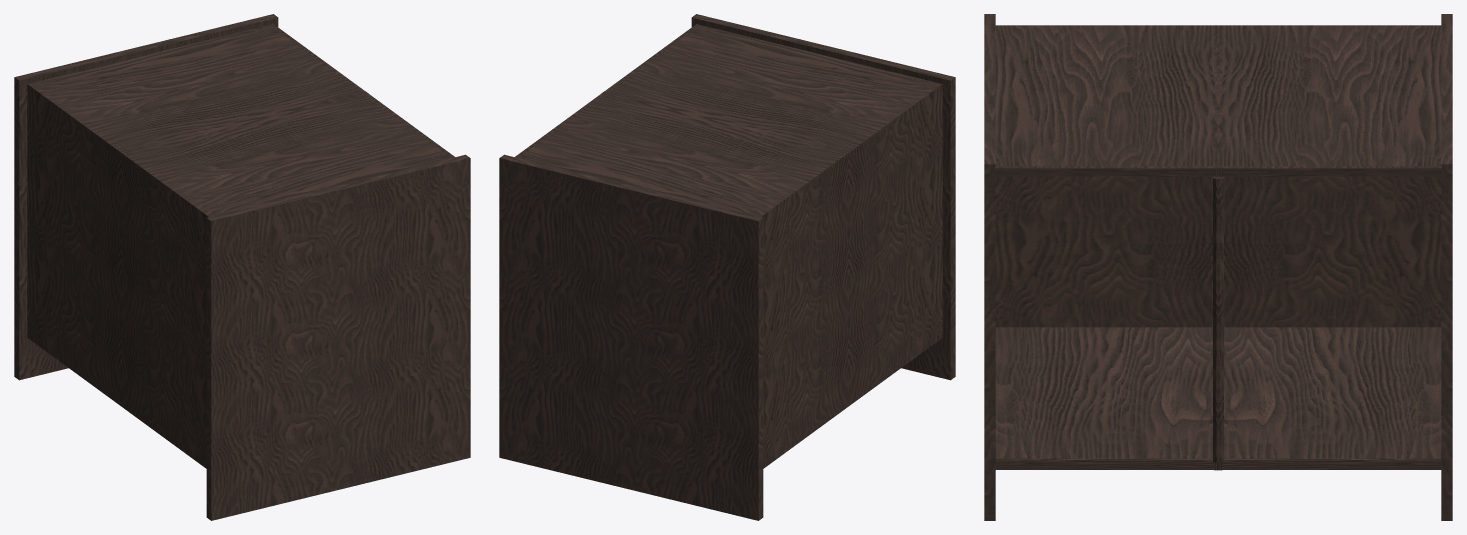
File: wood_cabinet_small.glb
3 views of the same model, side by side, from view 1: azimuth 30°, elevation 25°; view 2: azimuth 150°, elevation 25°; view 3: azimuth 270°, elevation 25° (orthographic). The views are drawn at different scales.
Visible parts, largest first — view 1: Cube.081; view 2: Cube.081; view 3: Cube.081.
Boxes of the visible parts, x1,y1,x2,y2 form: Cube.081: [14, 14, 470, 520]; Cube.081: [499, 14, 955, 520]; Cube.081: [984, 14, 1452, 520].
Bounding box in the file's own units: 0.5903 × 0.6522 × 0.777.
Materials: 1 (1 with a texture image).
